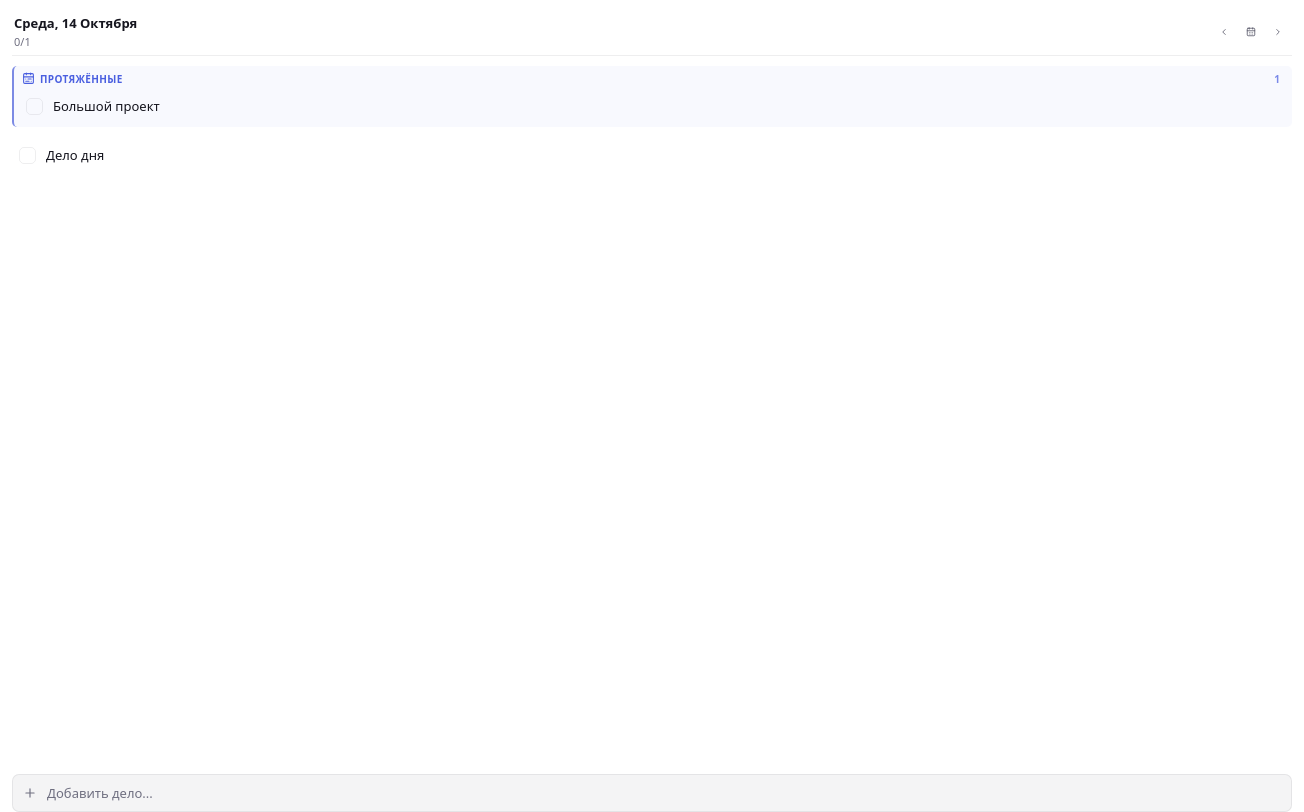
Test case: DayView › shows a long-running task on every selected day without counting it as a daily task
The image size is (1304, 812).
Expected: the button "Большой проект" is shown, [53,97,1142,115]
Expected: the text "0/1" is shown, [14,34,31,49]
Click the button titled "Следующий день". click: (1278,32)
box: [1266,20,1290,44]
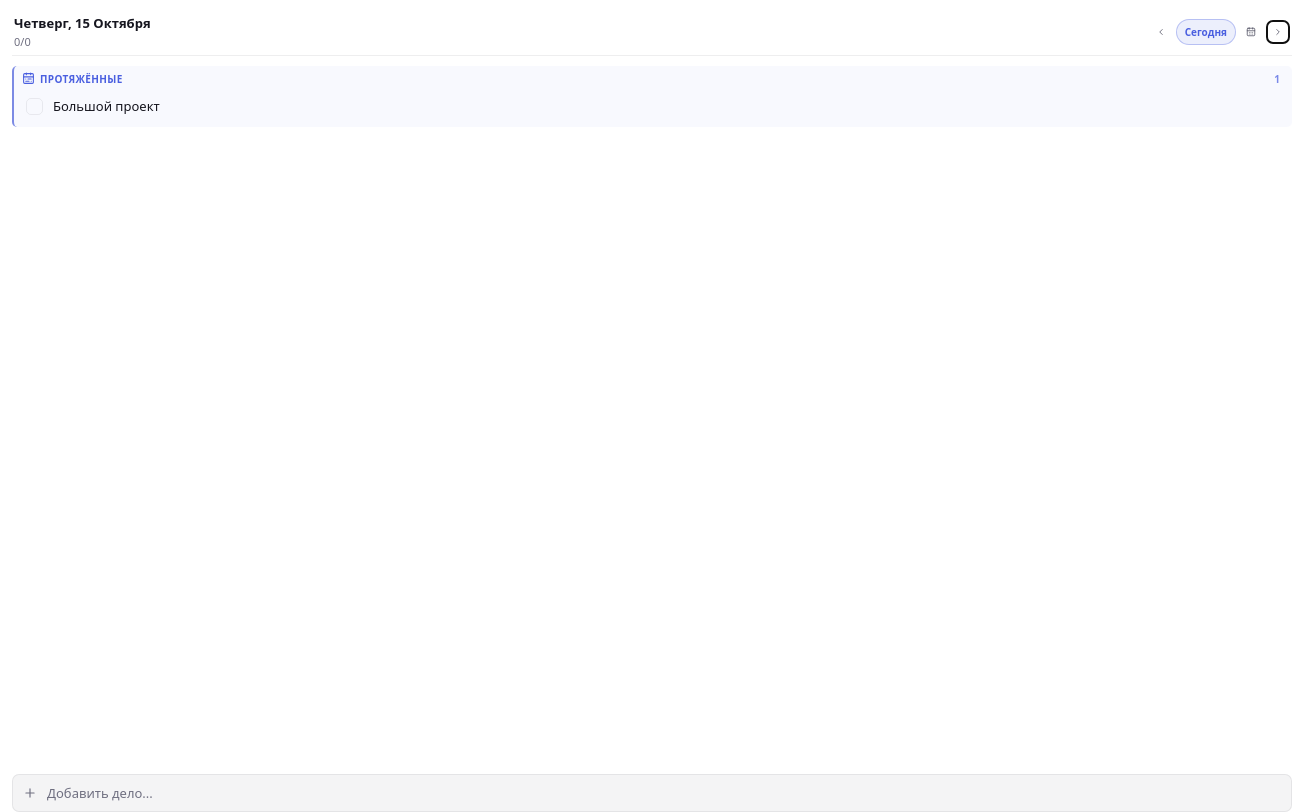
Expected: the button "Большой проект" is shown, [53,97,1142,115]
Expected: the button "Дело дня" is gone
Expected: the text "0/0" is shown, [14,34,31,49]
